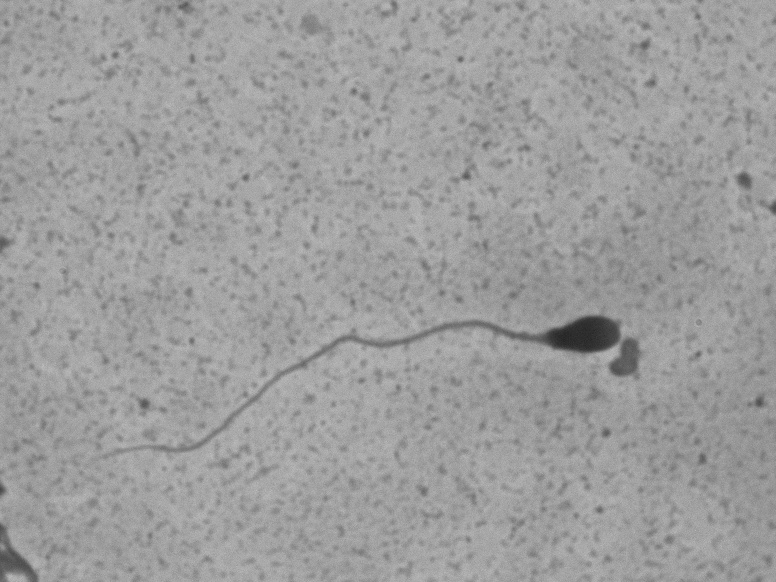Abnormal: (87, 251, 623, 464)
